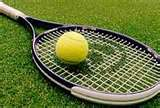tennis ball: (55, 31, 89, 65)
